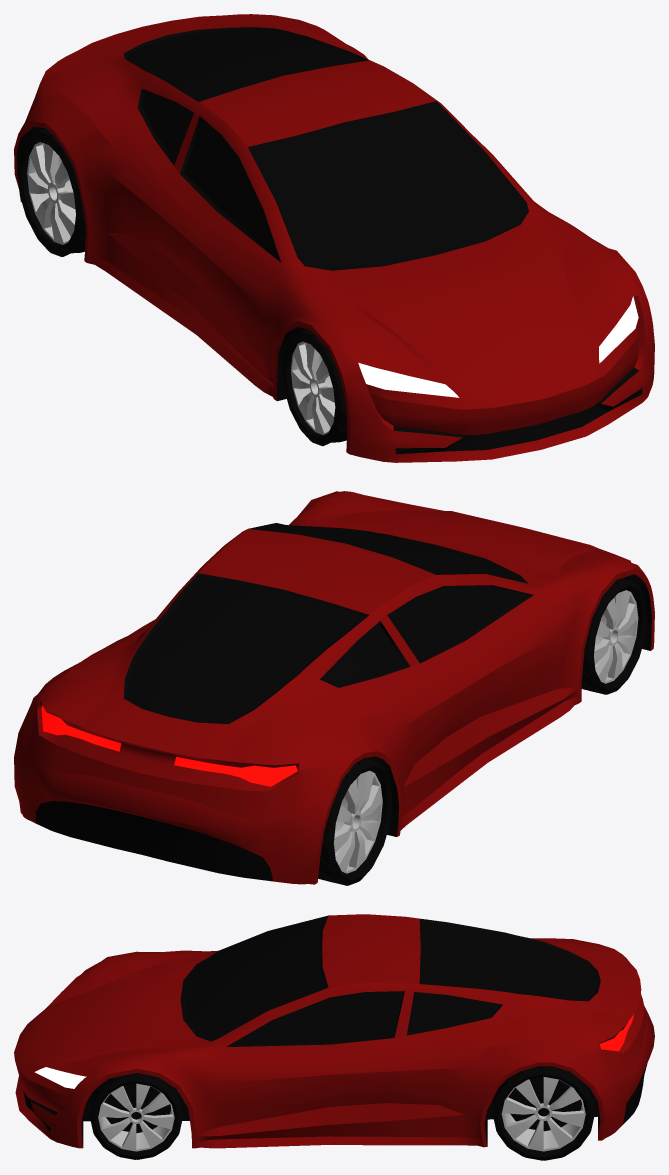
The picture shows the model from 3 angles, top to bottom: view 1: azimuth 30°, elevation 25°; view 2: azimuth 150°, elevation 25°; view 3: azimuth 270°, elevation 25°; orthographic projection. The views are drawn at different scales.
Parts seen in each view (by area): view 1: Body, Back Wheels.001, Front Wheels.001; view 2: Body, Back Wheels.001, Front Wheels.001; view 3: Body, Back Wheels.001, Front Wheels.001.
Part boxes in pixels (box(x1,y1,x2,y2)): Body: box(14, 14, 654, 462); Back Wheels.001: box(17, 128, 85, 256); Front Wheels.001: box(282, 329, 346, 446); Body: box(14, 491, 654, 884); Back Wheels.001: box(318, 758, 392, 885); Front Wheels.001: box(581, 578, 646, 694); Body: box(14, 914, 654, 1148); Back Wheels.001: box(493, 1066, 594, 1160); Front Wheels.001: box(90, 1073, 182, 1159).
Bounding box in the file's own units: 2.02 × 1.22 × 4.52.
